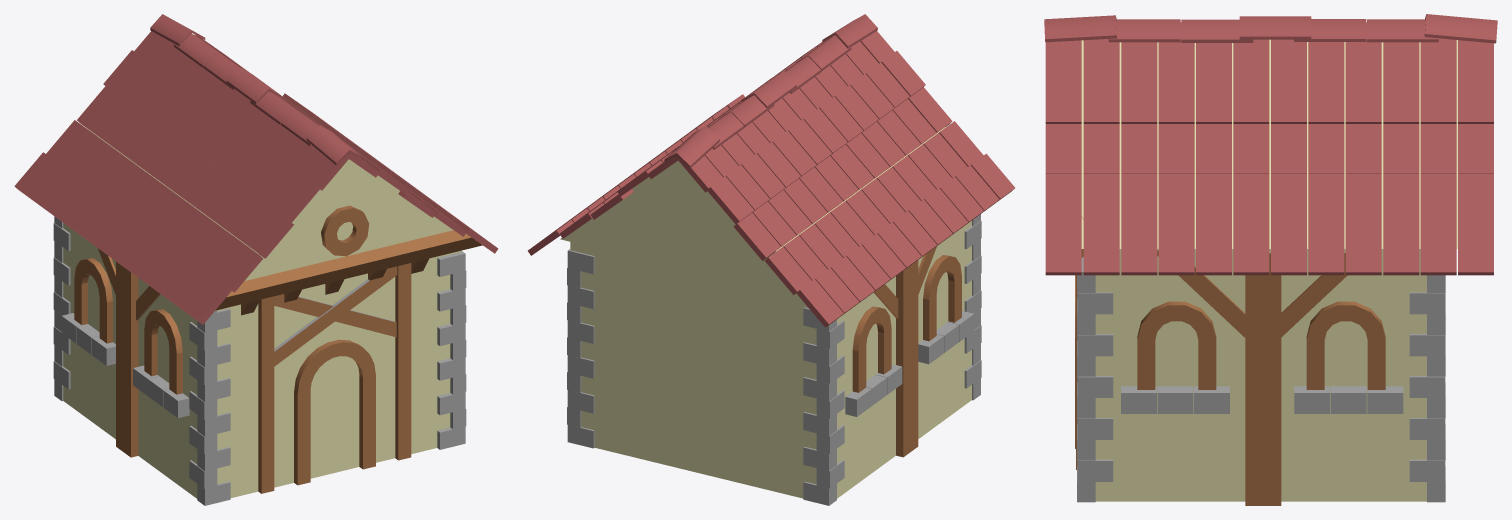
The model's file is blocking_house.fbx.
The picture shows the model from 3 angles, left to right: view 1: azimuth 30°, elevation 25°; view 2: azimuth 150°, elevation 25°; view 3: azimuth 270°, elevation 25°; orthographic projection. The views are drawn at different scales.
Visible parts, largest first — view 1: blocking_house; view 2: blocking_house; view 3: blocking_house.
Part boxes in pixels (<box>): blocking_house: <box>14,14,498,505</box>; blocking_house: <box>528,14,1014,505</box>; blocking_house: <box>1044,14,1497,505</box>.
Size of the model in its own units: 583 by 633 by 631.
